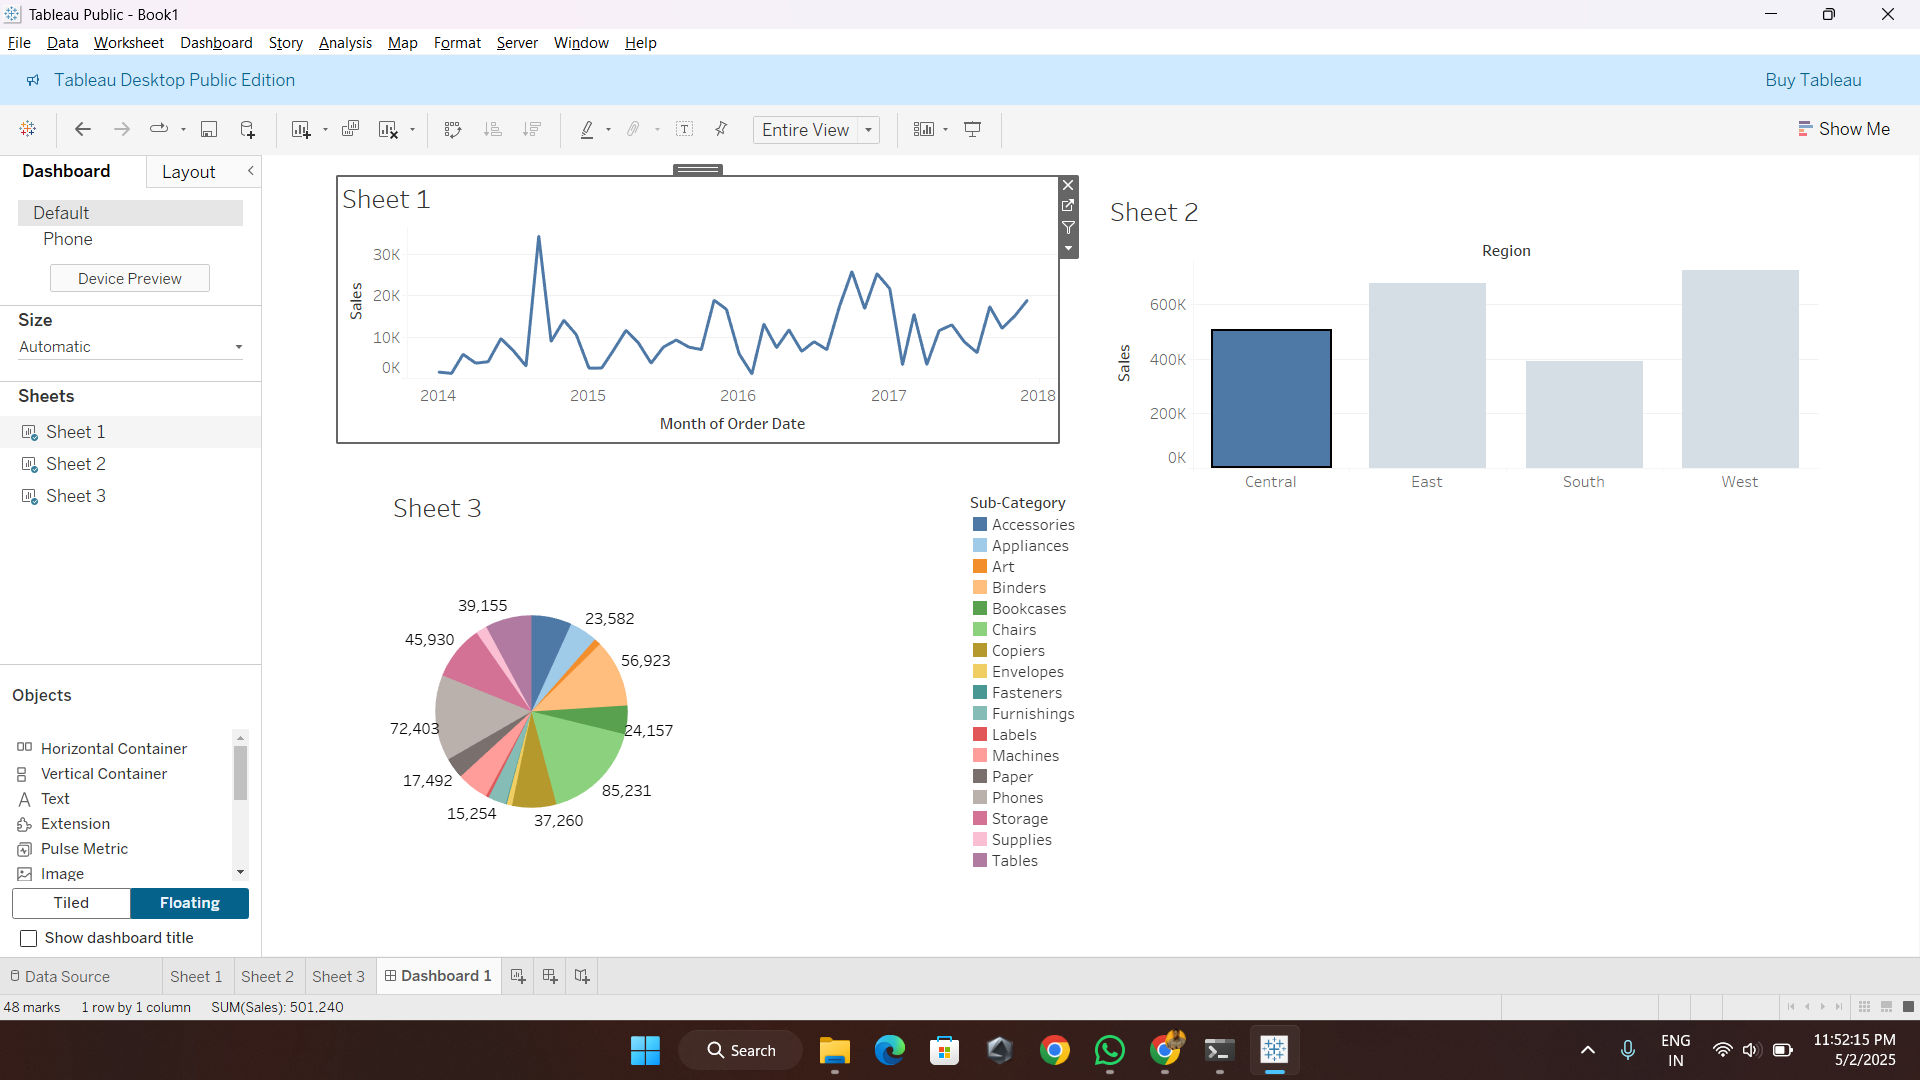

The dashboard page shown, as its layout file describes it:
{"tool":"tableau","page":{"name":"Dashboard 1","canvas":[1000,1000],"units":"permille","ordinal":0},"visuals":[{"type":"worksheet","title":"Sheet 1","mark":"Automatic","rows":["Sales"],"cols":["Order Date"],"box":[45.7,27.8,434.8,330]},{"type":"worksheet","title":"Sheet 2","mark":"Automatic","rows":["Sales"],"cols":["Region"],"box":[509.5,44.2,430.3,378]},{"type":"worksheet","title":"Sheet 3","mark":"Pie","box":[76.9,413.4,557.4,544.9]},{"type":"legend","title":"Sheet 3","param":"[federated.0zytudi18xzlkc154tkg91schba1].[none:Sub-Category:nk]","box":[427,421,132.7,501.9]}]}

Visuals, with their boxes on the dashboard's canvas, which has no fixed pixel size, in thousandths of its width and height (x1, y1, x2, y2). These are canvas units, not pixel positions in the 1920x1080 screenshot, which may show the page scaled, cropped or inside an application window:
"Sheet 1" worksheet: pyautogui.locateOnScreen(46, 28, 480, 358)
"Sheet 2" worksheet: pyautogui.locateOnScreen(510, 44, 940, 422)
"Sheet 3" worksheet (Pie marks): pyautogui.locateOnScreen(77, 413, 634, 958)
"Sheet 3" legend: pyautogui.locateOnScreen(427, 421, 560, 923)
